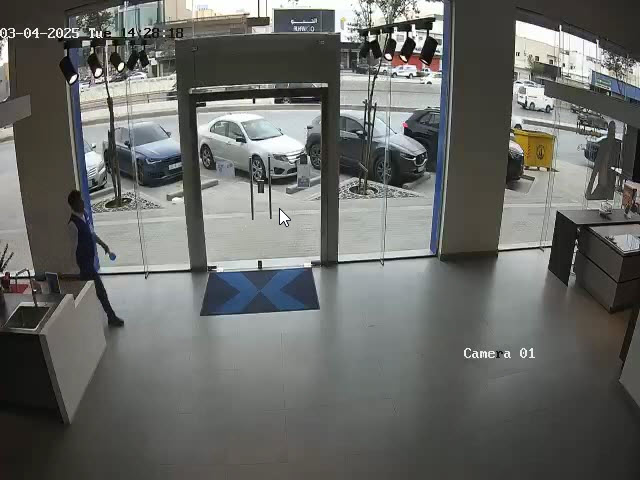employee: (67, 190, 124, 328)
